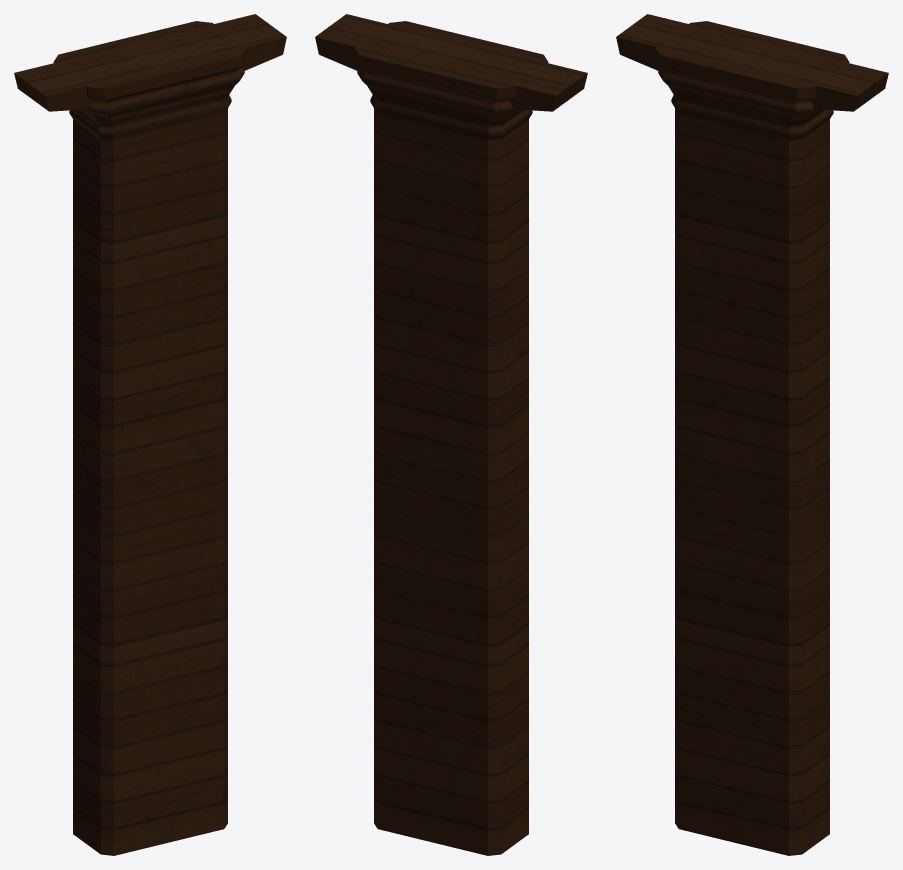
Rendered from building.glb.
3 views of the same model, side by side, from view 1: azimuth 30°, elevation 25°; view 2: azimuth 150°, elevation 25°; view 3: azimuth 330°, elevation 25° (orthographic).
Parts seen in each view (by area): view 1: vertical_member/madera_saddle_post/member_shaft#0001, vertical_member/madera_saddle_post/member_capital#0001, vertical_member/madera_saddle_post/member_saddle#0001; view 2: vertical_member/madera_saddle_post/member_shaft#0001, vertical_member/madera_saddle_post/member_capital#0001, vertical_member/madera_saddle_post/member_saddle#0001; view 3: vertical_member/madera_saddle_post/member_shaft#0001, vertical_member/madera_saddle_post/member_capital#0001, vertical_member/madera_saddle_post/member_saddle#0001.
Part boxes in pixels (x1,y1,x2,y2): vertical_member/madera_saddle_post/member_shaft#0001: (73, 109, 227, 855); vertical_member/madera_saddle_post/member_capital#0001: (53, 21, 247, 141); vertical_member/madera_saddle_post/member_saddle#0001: (14, 14, 286, 111); vertical_member/madera_saddle_post/member_shaft#0001: (374, 109, 528, 855); vertical_member/madera_saddle_post/member_capital#0001: (354, 21, 548, 141); vertical_member/madera_saddle_post/member_saddle#0001: (315, 14, 587, 111); vertical_member/madera_saddle_post/member_shaft#0001: (675, 109, 829, 855); vertical_member/madera_saddle_post/member_capital#0001: (655, 21, 849, 141); vertical_member/madera_saddle_post/member_saddle#0001: (616, 14, 888, 111).
Size of the model in its own units: 1.05 by 3.2 by 0.35.
Materials: 1 (1 with a texture image).
